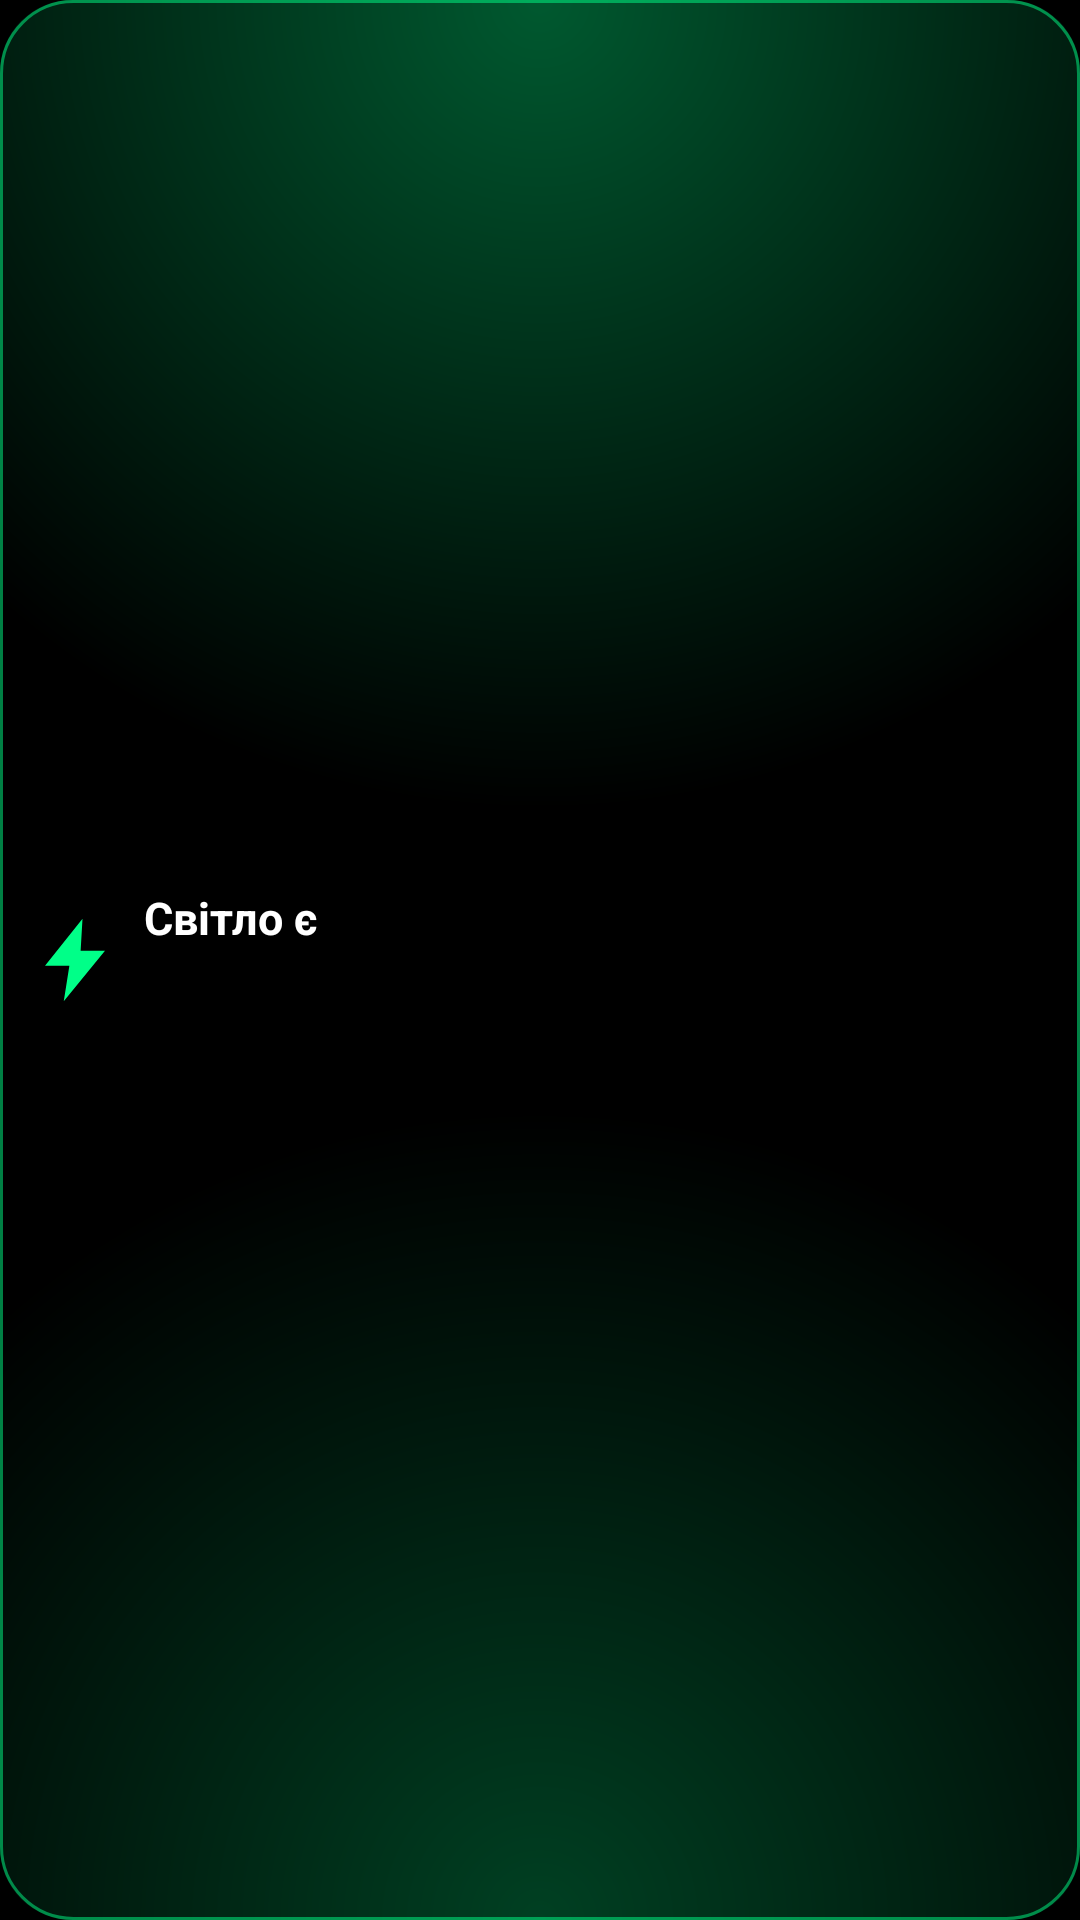

Where icons sit on this 1080px x 1920px app screen, as (x1=x1, y1=y1, x2=x2, y2=y2):
bolt on: (x1=45, y1=919, x2=105, y2=1001)
